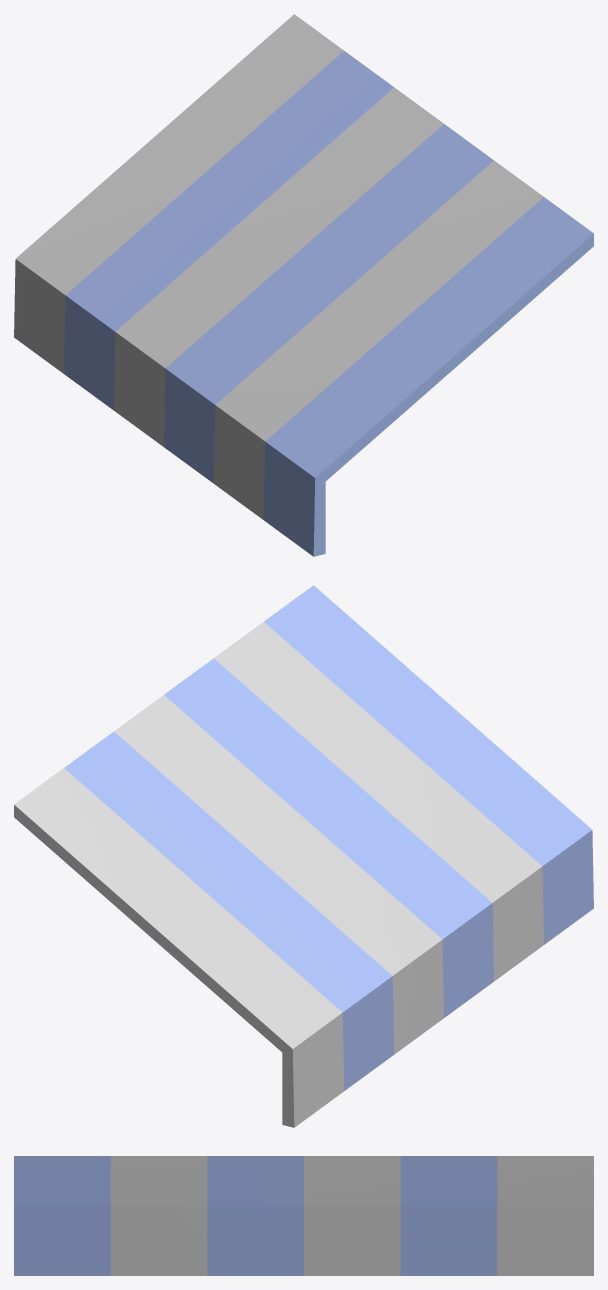
Rendered from Awning_2_D.fbx.
3 views of the same model, one above another, from view 1: azimuth 30°, elevation 25°; view 2: azimuth 150°, elevation 25°; view 3: azimuth 270°, elevation 25° (orthographic). The views are drawn at different scales.
Parts seen in each view (by area): view 1: Awning_2_D; view 2: Awning_2_D; view 3: Awning_2_D.
Part boxes in pixels (bbox=[...]): Awning_2_D: bbox=[14, 14, 593, 556]; Awning_2_D: bbox=[14, 585, 593, 1127]; Awning_2_D: bbox=[14, 1156, 593, 1275].
Size of the model in its own units: 111 by 96.45 by 205.
